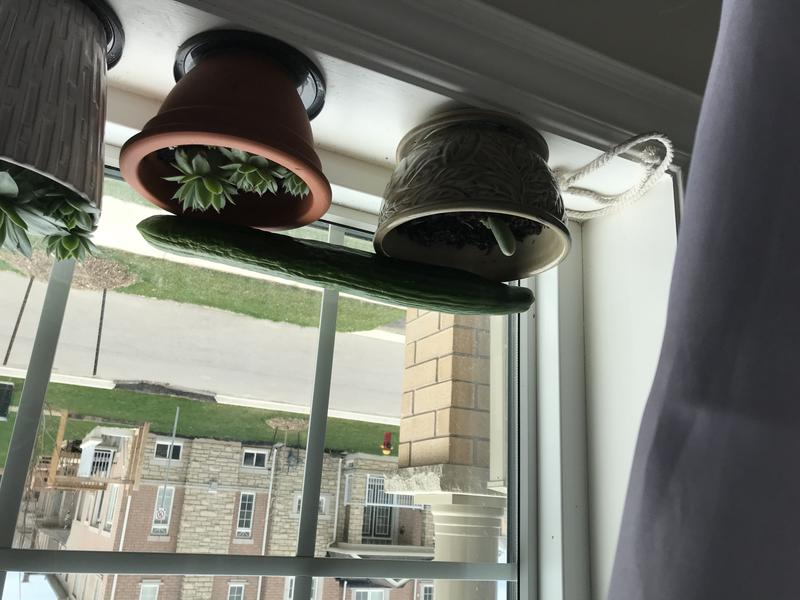cucumber: (123, 205, 551, 334)
